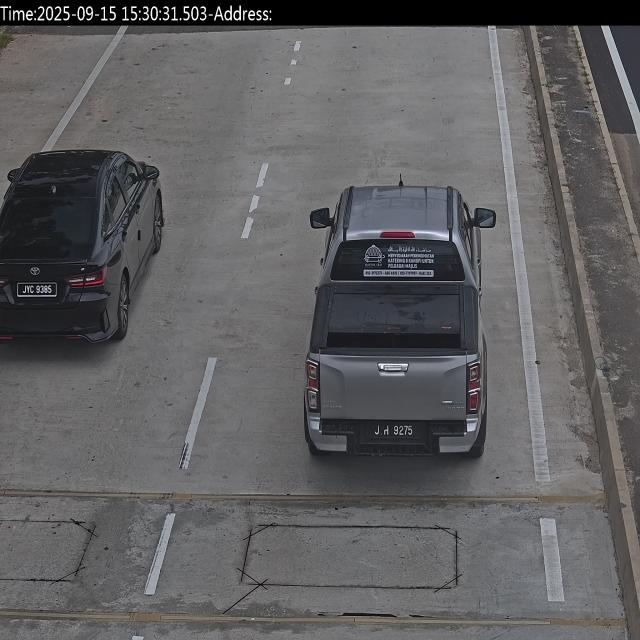back: (14, 278, 57, 301), (369, 423, 424, 440)
